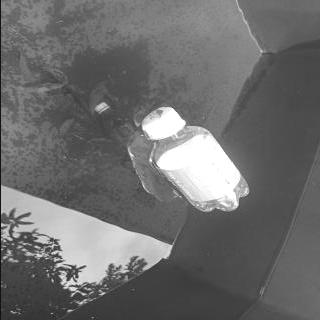bottle: (137, 104, 254, 216)
